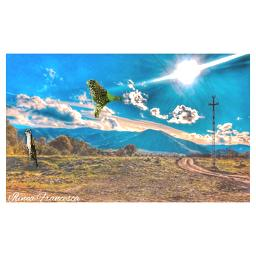Cuckoo: (24, 129, 39, 169)
Sparrow: (86, 79, 123, 118)
